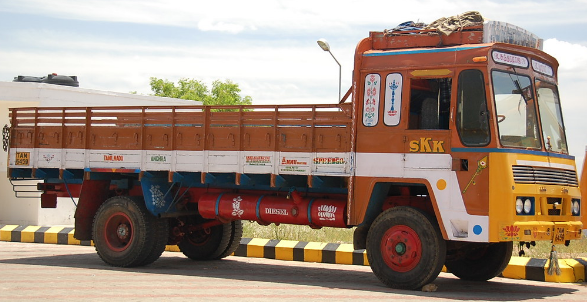truck: (1, 2, 583, 290)
